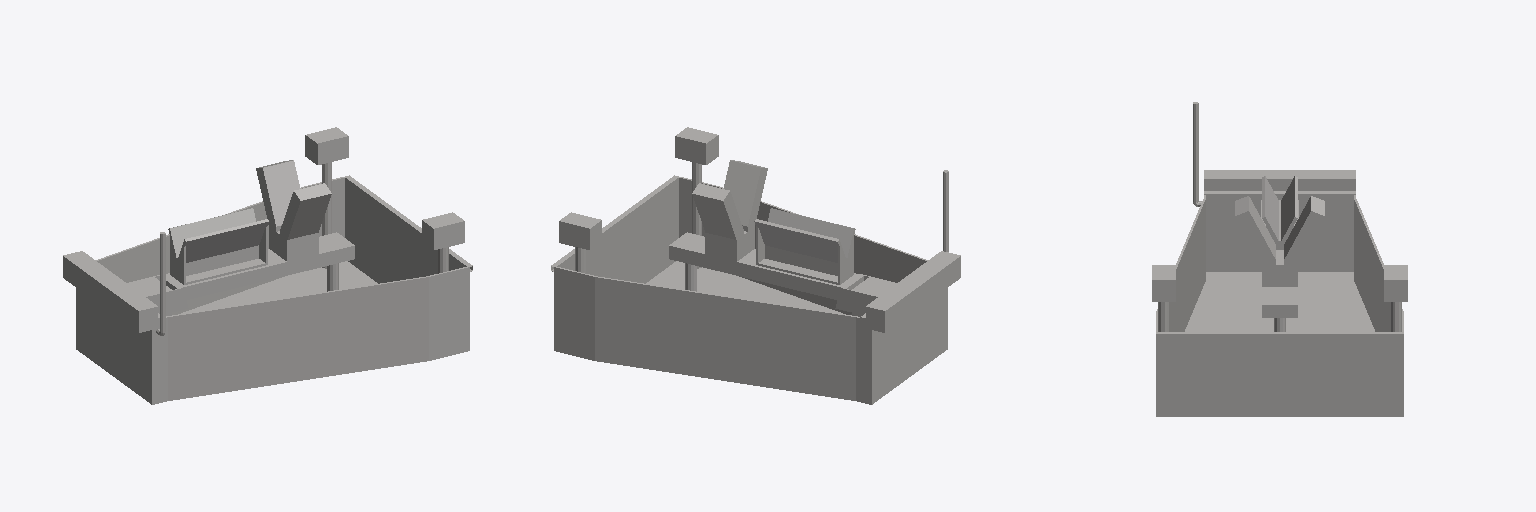
3 views of the same model, side by side, from view 1: azimuth 30°, elevation 25°; view 2: azimuth 150°, elevation 25°; view 3: azimuth 270°, elevation 25° (orthographic).
Visible parts, largest first — view 1: UT; view 2: UT; view 3: UT.
Boxes of the visible parts, x1,y1,x2,y2 form: UT: [63, 127, 472, 404]; UT: [551, 127, 960, 404]; UT: [1152, 102, 1407, 416].
Size of the model in its own units: 298 by 159 by 213.